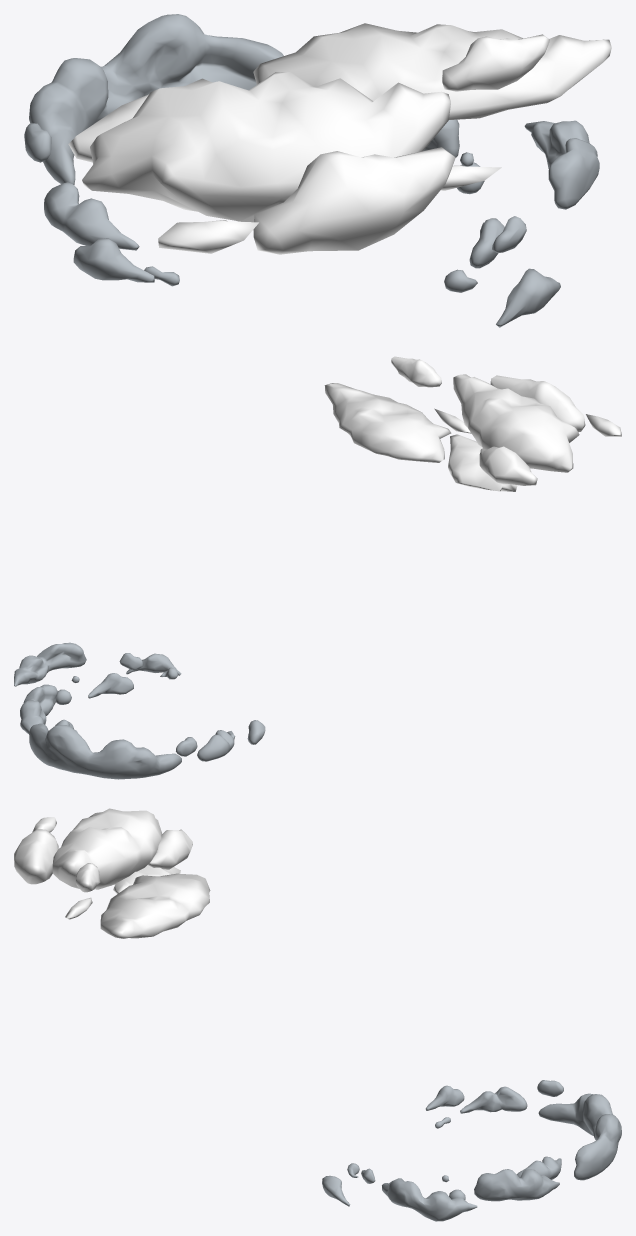
Rendered from Extras_Clouds_01.fbx.
3 renders of one model, top to bottom at view 1: azimuth 30°, elevation 25°; view 2: azimuth 150°, elevation 25°; view 3: azimuth 270°, elevation 25°, orthographic. The views are drawn at different scales.
Parts seen in each view (by area): view 1: Clouds, pasted__pasted__polySurface300_Group49711; view 2: Clouds, pasted__pasted__polySurface300_Group49711; view 3: Clouds, pasted__pasted__polySurface300_Group49711.
Boxes of the visible parts, <box> form: Clouds: <box>68,23,611,254</box>; pasted__pasted__polySurface300_Group49711: <box>24,14,599,327</box>; Clouds: <box>324,356,621,491</box>; pasted__pasted__polySurface300_Group49711: <box>14,642,265,779</box>; Clouds: <box>14,808,210,938</box>; pasted__pasted__polySurface300_Group49711: <box>322,1080,621,1221</box>.
Size of the model in its own units: 14765 by 9023 by 18944.
